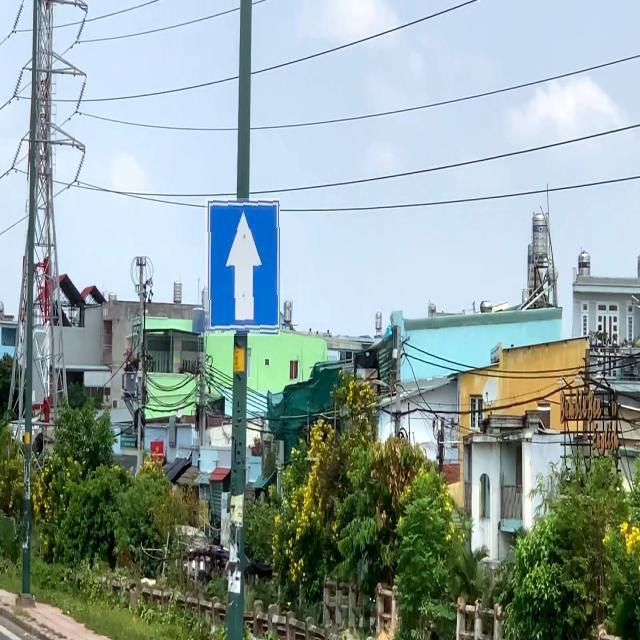R-407a: (205, 199, 280, 337)
